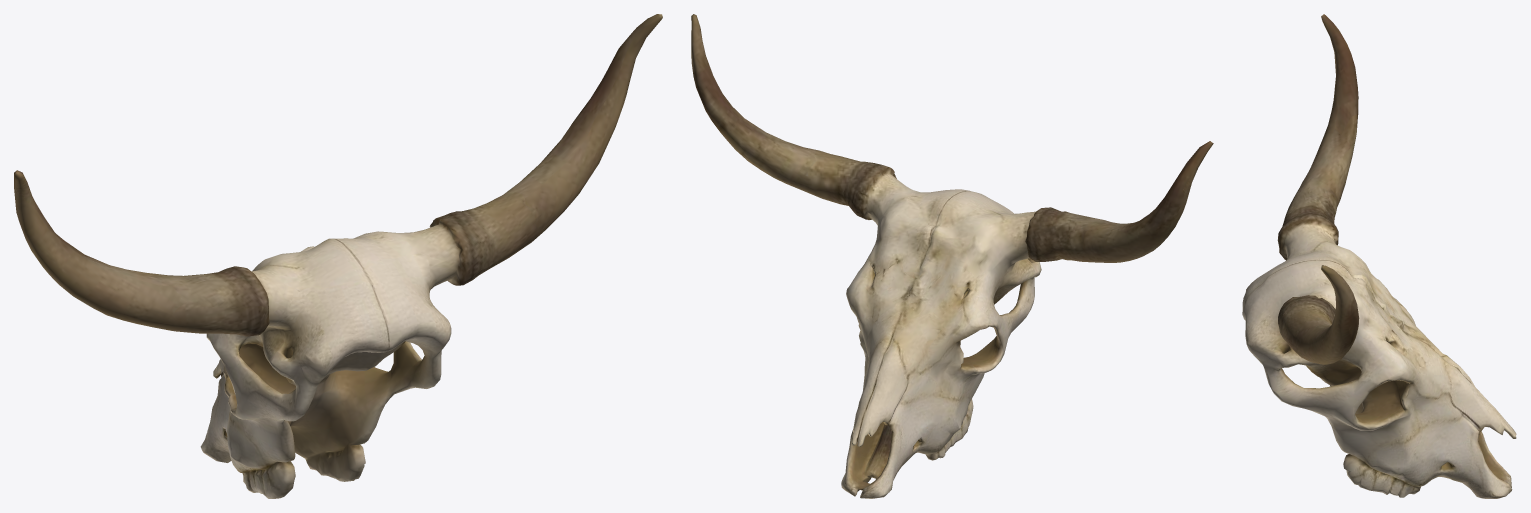
The model's file is bull_skull.glb.
3 views of the same model, side by side, from view 1: azimuth 30°, elevation 25°; view 2: azimuth 150°, elevation 25°; view 3: azimuth 270°, elevation 25° (orthographic). The views are drawn at different scales.
Parts seen in each view (by area): view 1: BullSkull; view 2: BullSkull; view 3: BullSkull.
Boxes of the visible parts, <box> form: BullSkull: <box>14,14,662,498</box>; BullSkull: <box>691,14,1213,498</box>; BullSkull: <box>1242,14,1516,498</box>.
Size of the model in its own units: 1.1 by 0.7119 by 0.5021.
1 material, 1 textured.
